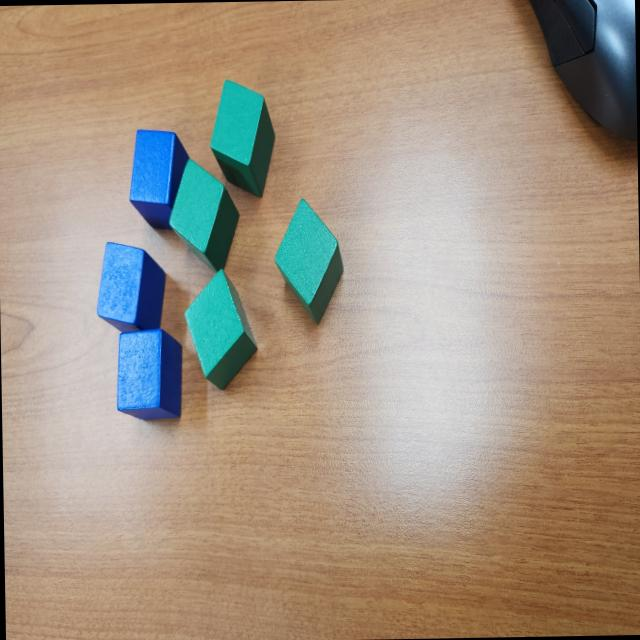blue: (95, 240, 167, 333), (114, 328, 184, 422), (128, 128, 191, 232)
green: (184, 268, 258, 390), (273, 196, 343, 324), (166, 157, 240, 274), (208, 78, 276, 198)
